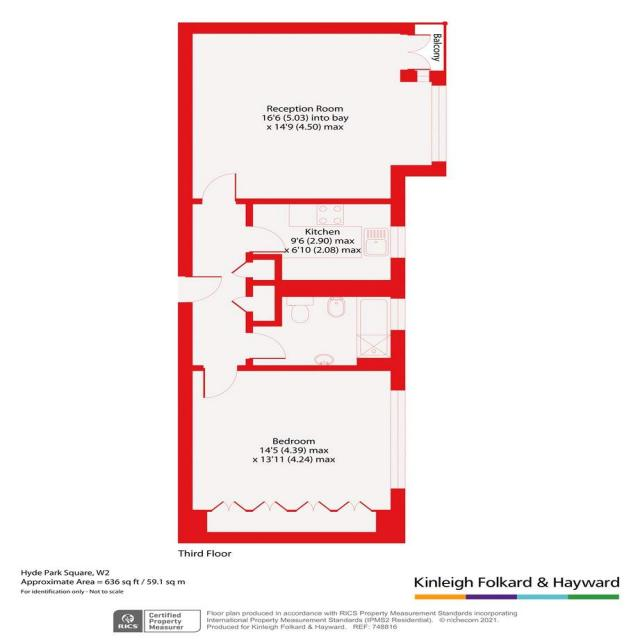DOOR: (177, 275, 223, 304), (202, 364, 239, 399), (245, 225, 288, 254), (201, 172, 238, 205), (245, 332, 288, 360)
ROOM: (177, 22, 447, 204), (177, 357, 406, 544), (245, 198, 406, 297)
WINDOW: (390, 389, 407, 490), (431, 84, 447, 162), (390, 226, 406, 260), (390, 297, 406, 331), (416, 70, 431, 83)
